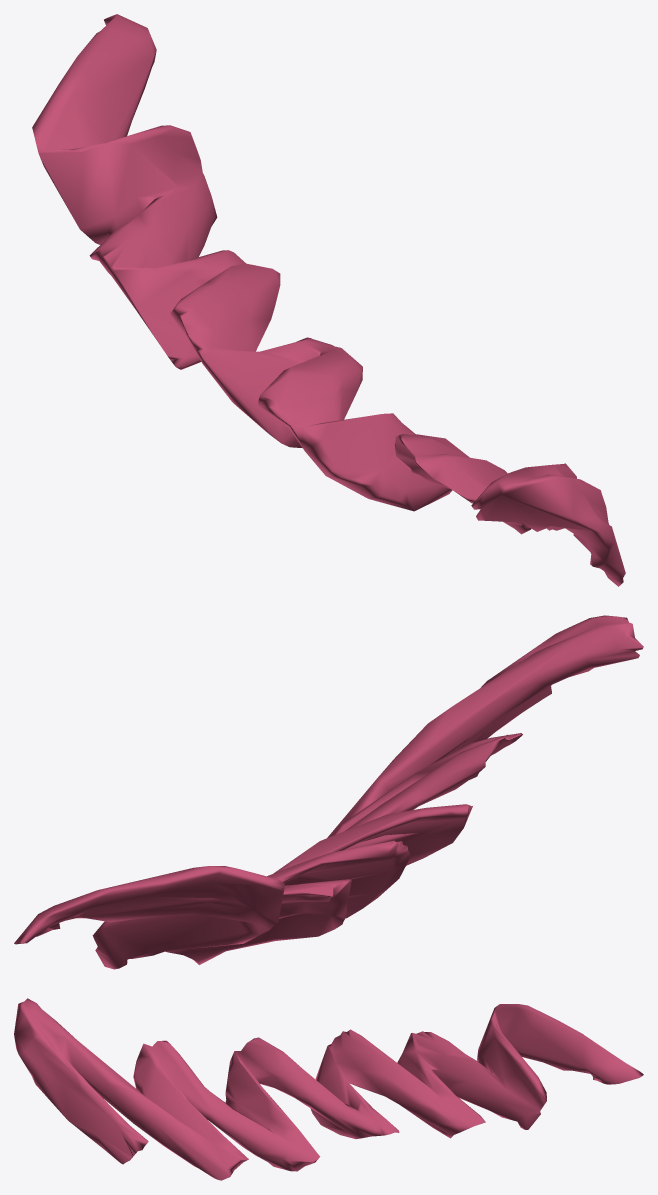
3 views of the same model, one above another, from view 1: azimuth 30°, elevation 25°; view 2: azimuth 150°, elevation 25°; view 3: azimuth 270°, elevation 25° (orthographic). The views are drawn at different scales.
Visible parts, largest first — view 1: 左侧颈多裂肌; view 2: 左侧颈多裂肌; view 3: 左侧颈多裂肌.
Part boxes in pixels (bbox=[...]): 左侧颈多裂肌: bbox=[32, 14, 625, 586]; 左侧颈多裂肌: bbox=[14, 615, 643, 969]; 左侧颈多裂肌: bbox=[14, 998, 643, 1180].
Bounding box in the file's own units: 0.0353 × 0.0334 × 0.1445.
